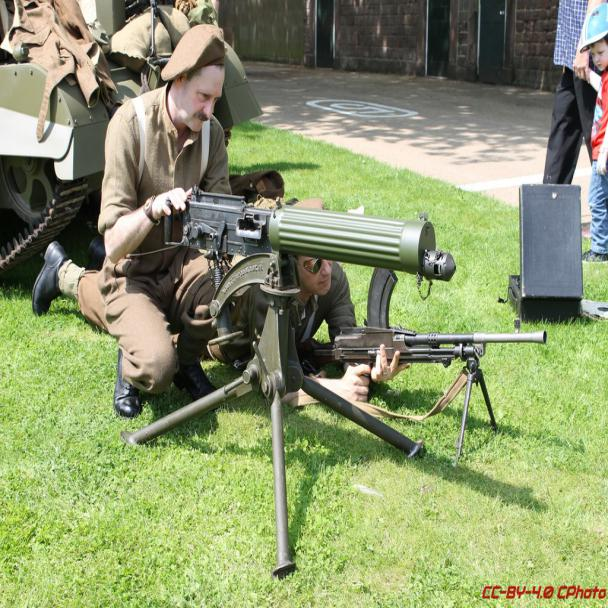Gun: (161, 166, 461, 300), (325, 293, 541, 383)
Hand: (325, 366, 377, 408), (371, 343, 406, 398), (147, 189, 194, 220)
